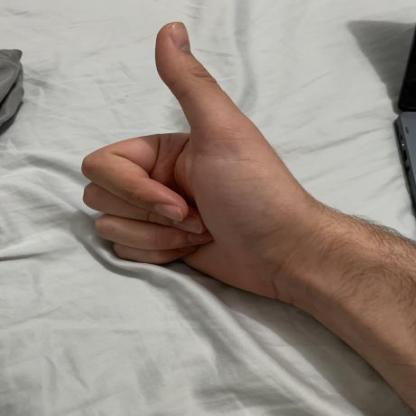Thumbs-Up: (55, 17, 296, 293)
